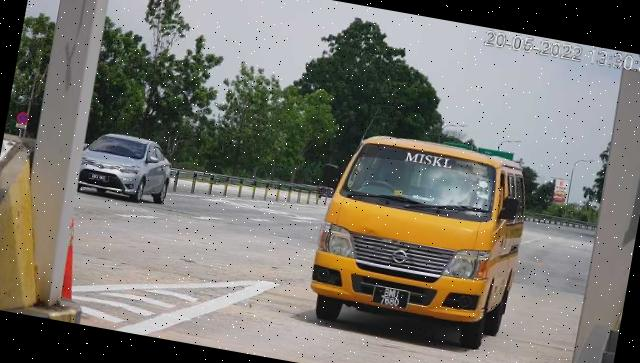License_Plate: (372, 285, 413, 313)
van: (306, 126, 536, 356)
